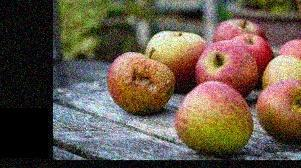rotten apple: (99, 48, 177, 118)
